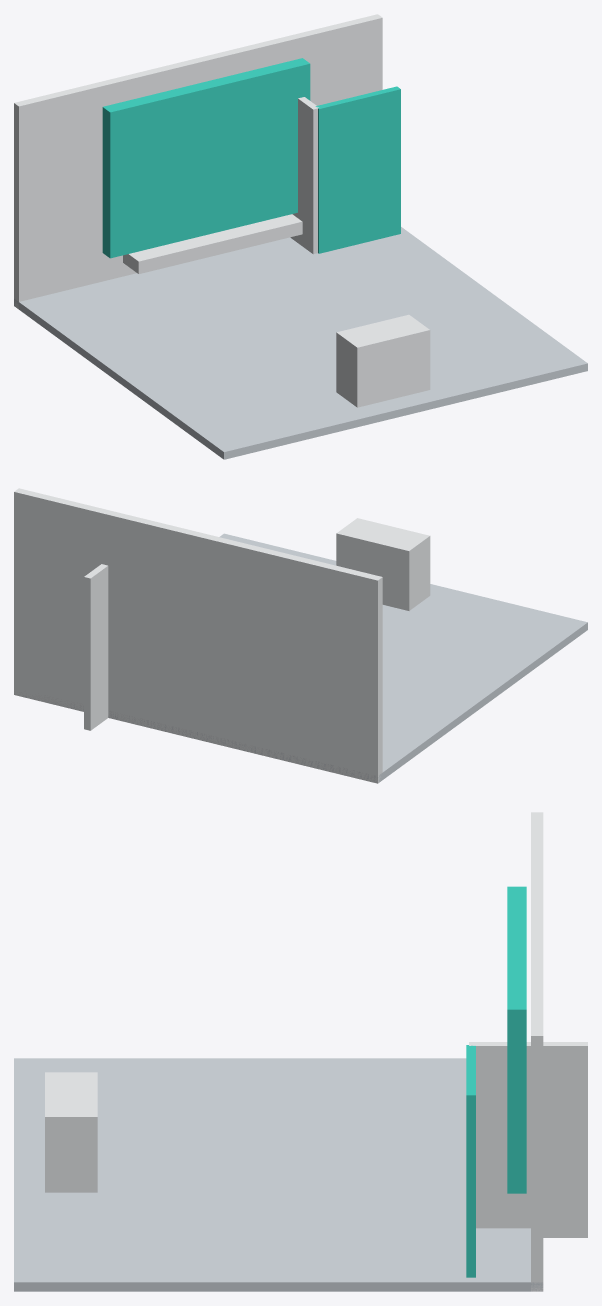
3 views of the same model, one above another, from view 1: azimuth 30°, elevation 25°; view 2: azimuth 150°, elevation 25°; view 3: azimuth 270°, elevation 25° (orthographic). The views are drawn at different scales.
Parts seen in each view (by area): view 1: Exhibition Booth Concept; view 2: Exhibition Booth Concept; view 3: Exhibition Booth Concept.
Part boxes in pixels (x1,y1,x2,y2): Exhibition Booth Concept: (14,14,587,459); Exhibition Booth Concept: (14,488,587,783); Exhibition Booth Concept: (14,812,587,1291).
Size of the model in its own units: 6 by 3.2 by 6.51.
